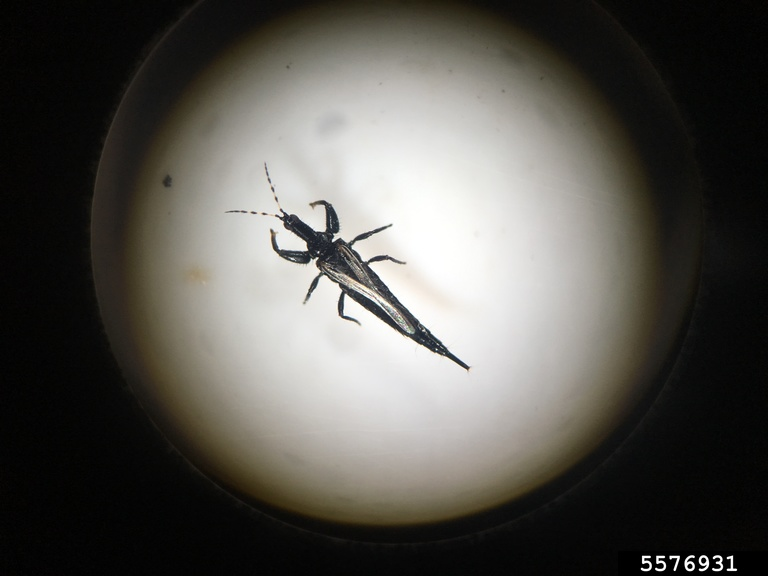Thrips: (249, 171, 493, 387)
